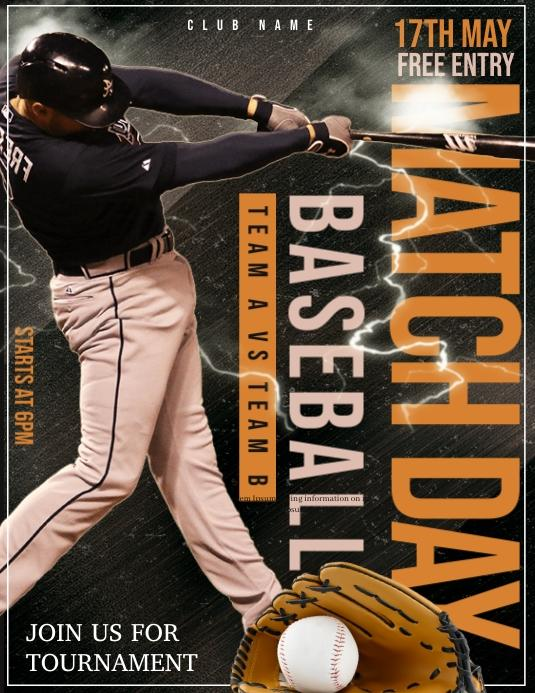baseball: (275, 616, 359, 693)
